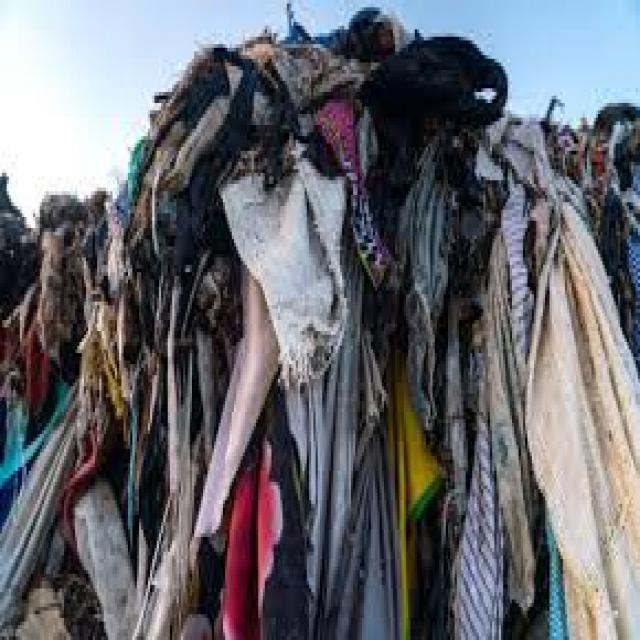Clothes -Biodegradable-: (0, 4, 640, 640)
